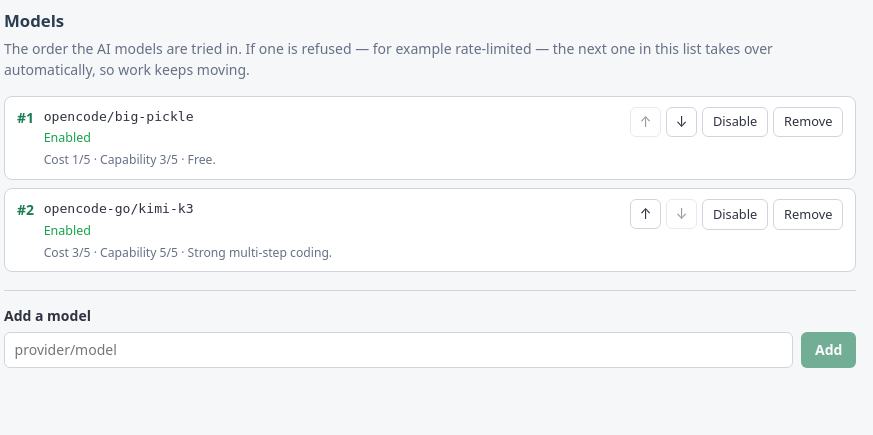
Scenario: ModelsView › shows a rejected add rather than silently doing nothing
The width and height of the screenshot is (873, 435).
Expected: the list with test id "models-list" is shown, [4, 96, 856, 272]
Step 1. Type "opencode/big-pickle" into the field with test id "model-add-input" → (399,350), box [4, 332, 793, 368]
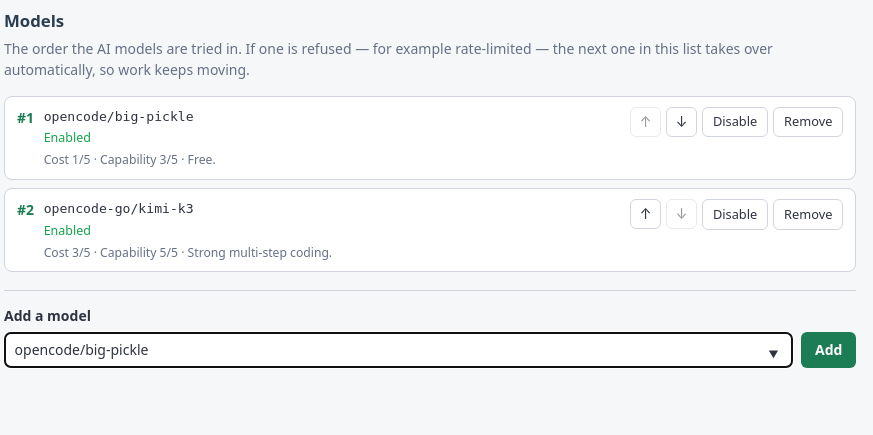
Step 2. Click the button with test id "model-add-btn" → (829,350), box [801, 332, 856, 368]
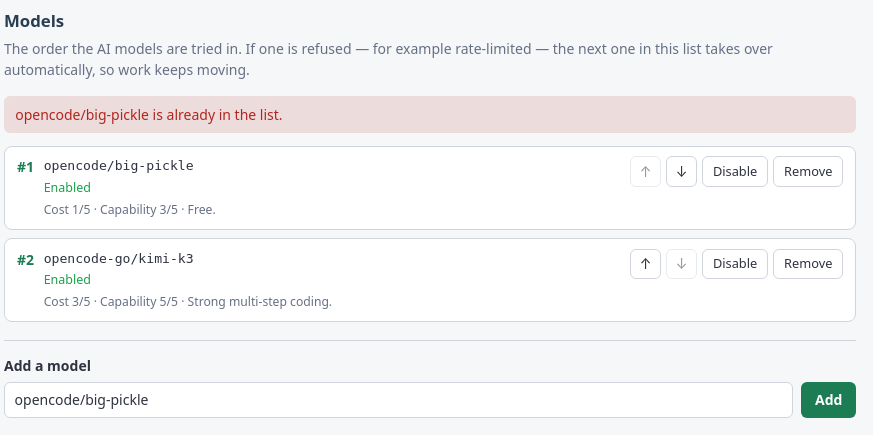
Now the text with test id "models-error" shows "already in the list", box [15, 105, 283, 124]
